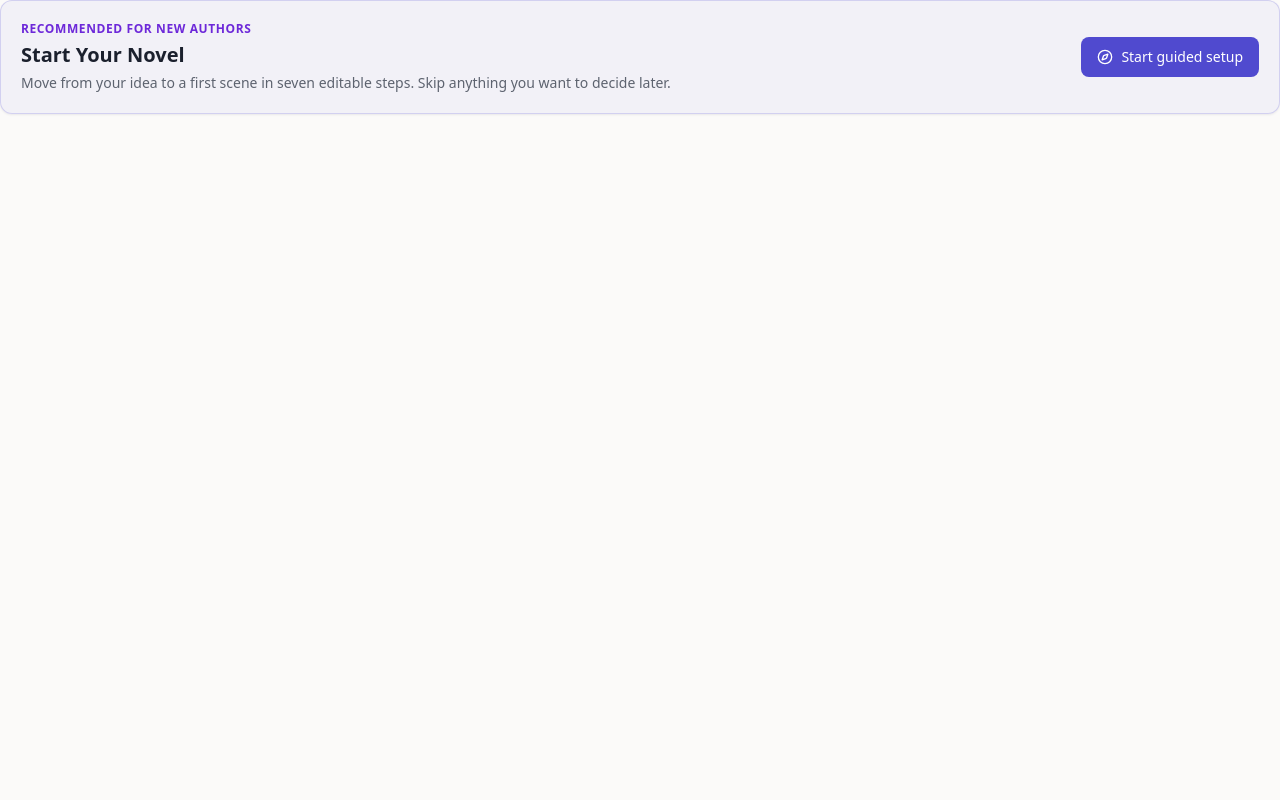
it: RC6 beginner author experience › presents one guided start with editable, skippable, assisted steps
Later steps or results of the test are not shown.
What coordinates should you click on to do the following:
click the button with test id "start-your-novel"
I would click on:
 (1170, 57)
Its box is 1081,37 -> 1259,77.
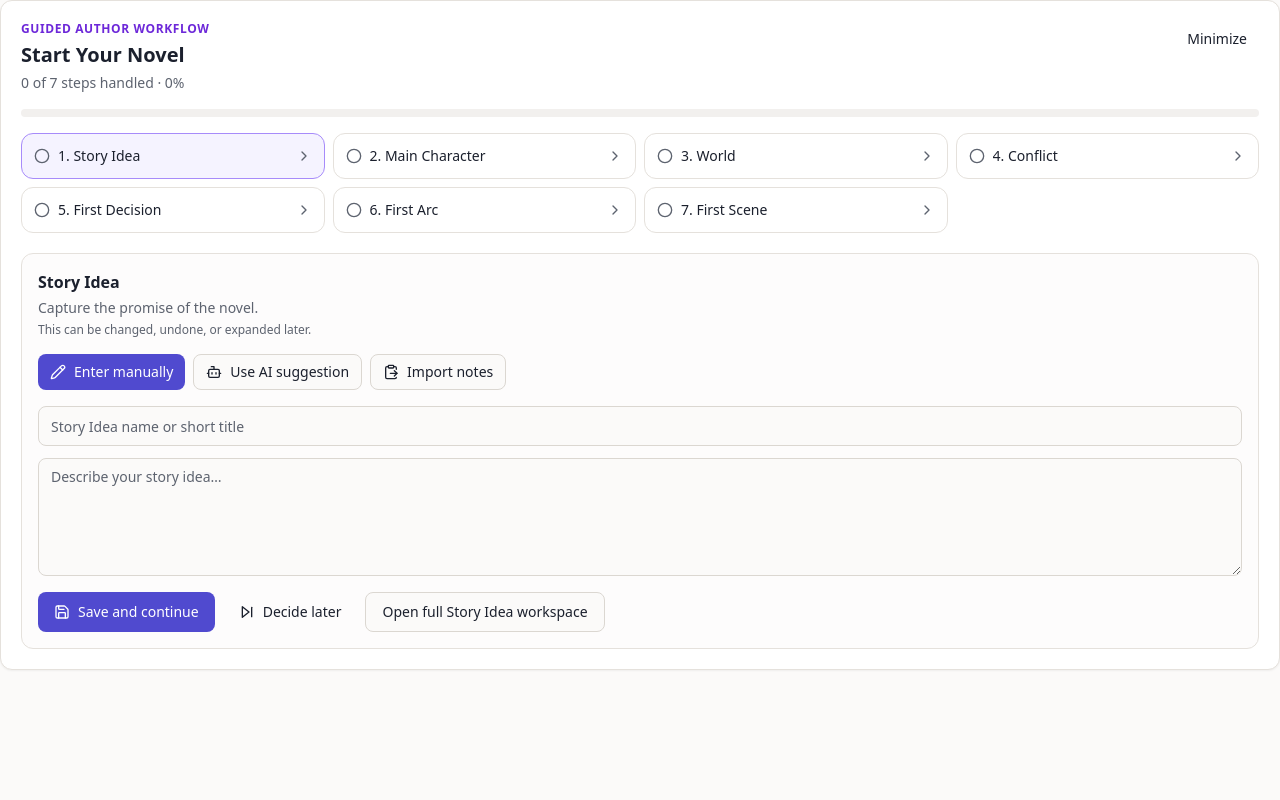
Expected: the element with test id "start-your-novel-flow" shows "Start Your Novel", 21,41 -> 185,68
Now the number of buttons "Use AI suggestion" is 1, box 193,354 -> 362,390
